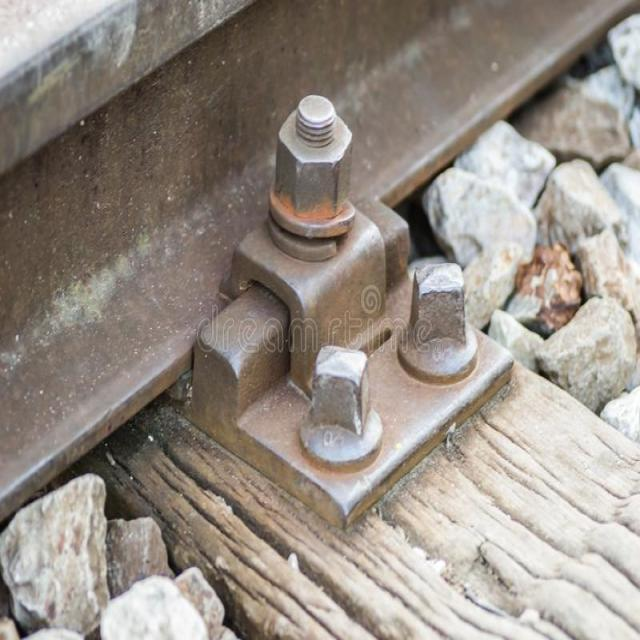bolt nut: (274, 95, 355, 218)
